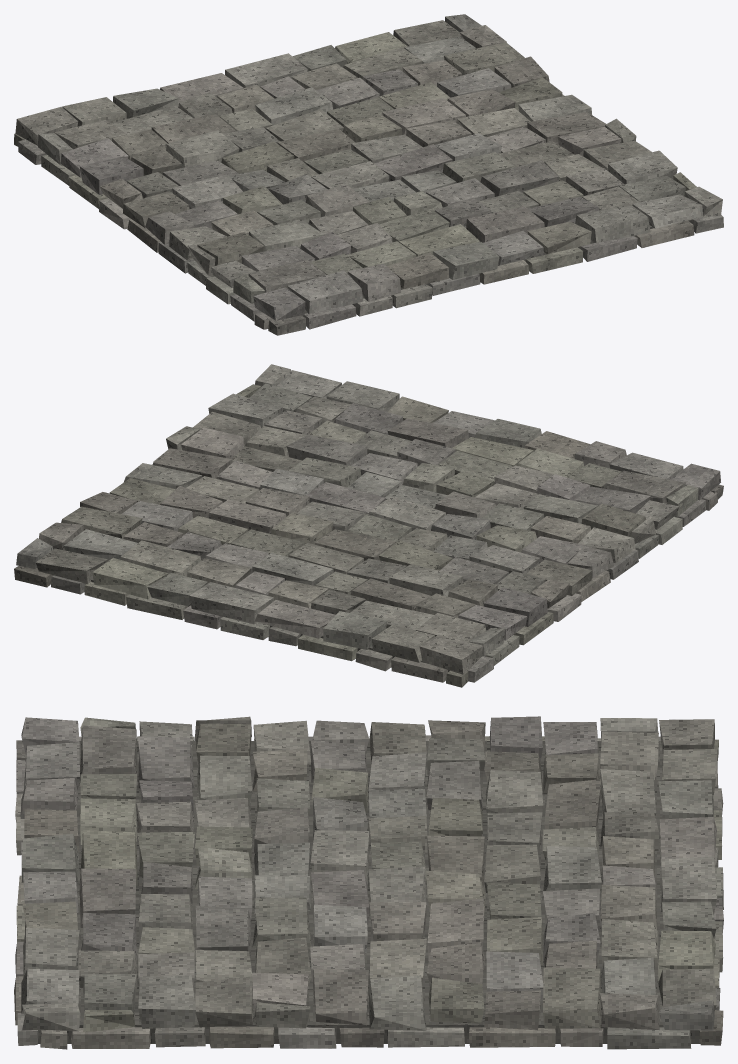
Rendered from piso_pedra_g.glb.
3 renders of one model, top to bottom at view 1: azimuth 30°, elevation 25°; view 2: azimuth 150°, elevation 25°; view 3: azimuth 270°, elevation 25°, orthographic. The views are drawn at different scales.
Visible parts, largest first — view 1: piso_pedra_g_pedra; view 2: piso_pedra_g_pedra; view 3: piso_pedra_g_pedra.
Part boxes in pixels (x1,y1,x2,y2): piso_pedra_g_pedra: (14, 14, 723, 335); piso_pedra_g_pedra: (14, 364, 723, 687); piso_pedra_g_pedra: (14, 716, 723, 1049).
Size of the model in its own units: 6.13 by 0.3869 by 6.13.
1 material, 1 textured.
